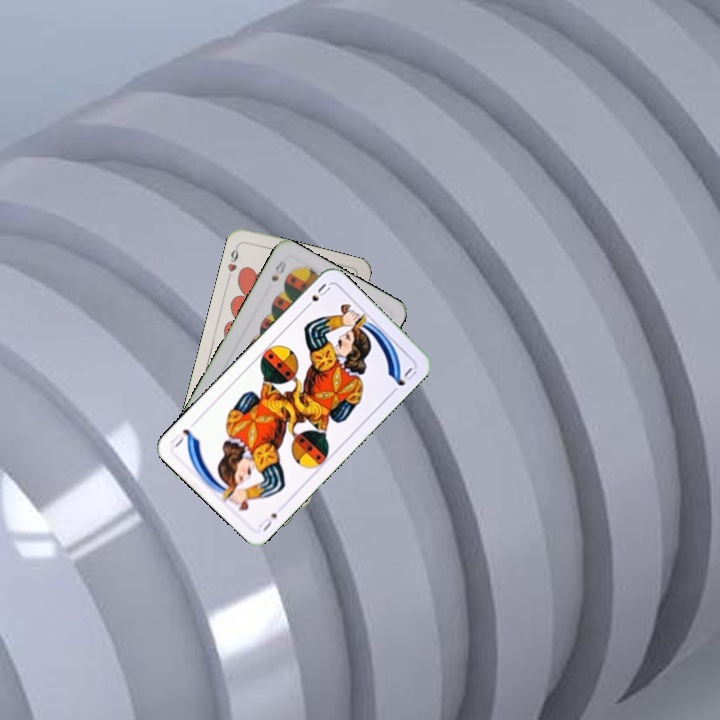H9: (223, 241, 242, 281)
S8: (267, 256, 289, 284)
SU: (300, 279, 333, 312), (255, 509, 280, 534)
